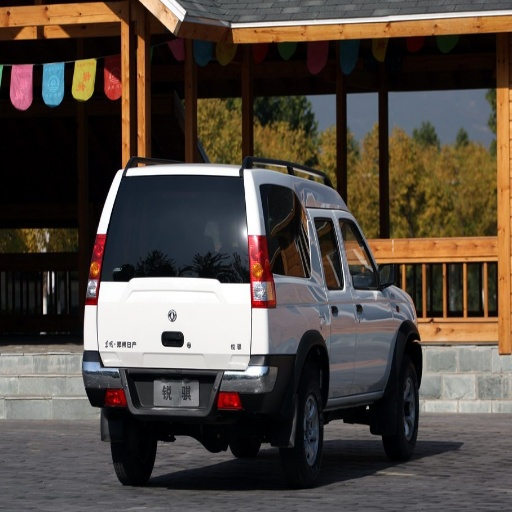back_bumper: (83, 361, 292, 419)
back_right_door: (308, 200, 353, 396)
trunk: (89, 282, 318, 382)
